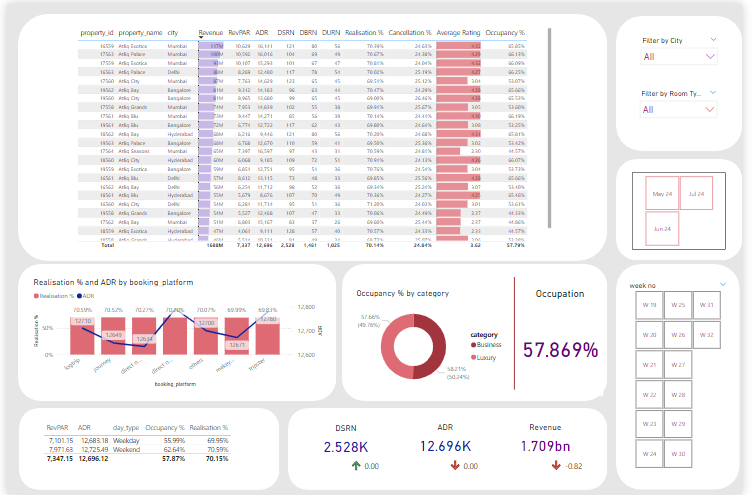

What the dashboard file says about the page in this screenshot:
{"tool":"powerbi","page":{"name":"Page 1","canvas":[1500,1000],"ordinal":0},"visuals":[{"type":"shape","box":[21.7,19.7,1202.8,503.9],"z":0,"group":"g2"},{"type":"group","id":"g1","title":"Group 1","box":[1242.1,23.6,257.9,275.6],"z":0},{"type":"shape","box":[1242.1,23.6,257.9,275.6],"z":0,"group":"g1"},{"type":"shape","box":[1242.1,316.9,257.9,206.7],"z":0,"group":"g10"},{"type":"shape","box":[682.9,531,541.3,279.5],"z":0,"group":"g5"},{"type":"shape","box":[21.7,531.5,649.6,279.5],"z":0,"group":"g8"},{"type":"shape","box":[1242.1,531.5,252.7,460.6],"z":0,"group":"g4"},{"type":"shape","box":[23.6,824.8,531.5,167.3],"z":0,"group":"g9"},{"type":"shape","box":[572.8,824.8,651.6,167.3],"z":0,"group":"g7"},{"type":"group","id":"g2","title":"Group 3","box":[21.7,19.7,1202.8,503.9],"z":1000},{"type":"tableEx","fields":{"Values":["dim_hotel.property_id","dim_hotel.property_name","dim_hotel.city","key_measures.Revenue","key_measures.RevPAR","key_measures.ADR","key_measures.DSRN","key_measures.DBRN","key_measures.DURN","key_measures.Realisation %","key_measures.Cancellation %","key_measures.Average Rating"]},"box":[137.3,41.3,978.5,462.6],"z":1000,"group":"g2"},{"type":"slicer","fields":{"Values":["dim_date.mmm yy"]},"box":[1274.5,344,191.5,158.7],"z":1000,"group":"g10"},{"type":"lineStackedColumnComboChart","fields":{"Y":["key_measures.Realisation %"],"Category":["fact_bookings.booking_platform"],"Y2":["key_measures.ADR"]},"box":[48.7,558.1,601,230.3],"z":1000,"group":"g8"},{"type":"slicer","fields":{"Values":["dim_date.week no"]},"box":[1256.9,562.8,223.1,391.8],"z":1000,"group":"g4"},{"type":"card","title":"Occupation","fields":{"Values":["key_measures.Occupancy %"]},"box":[1039.4,579.5,175.9,219.8],"z":1000,"group":"g5"},{"type":"tableEx","fields":{"Values":["key_measures.RevPAR","key_measures.ADR","dim_date.day_type","key_measures.Occupancy %","key_measures.Realisation %"]},"box":[67.6,851,446.9,128],"z":1000,"group":"g9"},{"type":"slicer","fields":{"Values":["dim_hotel.city"]},"box":[1281.9,60.6,176.8,106.9],"z":2000,"group":"g1"},{"type":"group","id":"g3","title":"Group 4","box":[1242.1,316.9,257.9,206.7],"z":2000},{"type":"donutChart","fields":{"Category":["dim_hotel.category"],"Y":["key_measures.Occupancy %"]},"box":[707.1,579.5,316.6,219.8],"z":2000,"group":"g5"},{"type":"group","id":"g4","title":"Group 5","box":[1242.1,531.5,238.2,460.6],"z":3000},{"type":"slicer","fields":{"Values":["dim_room.room_class"]},"box":[1281.4,168.2,178,111.2],"z":4000,"group":"g1"},{"type":"group","id":"g5","title":"Group 6","box":[682.9,531,541.3,279.5],"z":4000},{"type":"group","id":"g6","title":"Group 2","box":[596.4,854.3,594.5,116.1],"z":4000,"group":"g7"},{"type":"group","id":"g7","title":"Group 7","box":[572.8,824.8,651.6,167.3],"z":5000},{"type":"tableEx","fields":{"Values":["key_measures.Revenue WoW change %"]},"box":[1098.1,894,93.5,72.3],"z":5000,"group":"g6"},{"type":"group","id":"g8","title":"Group 8","box":[21.7,531.5,649.6,279.5],"z":6000},{"type":"group","id":"g9","title":"Group 9","box":[23.6,824.8,531.5,167.3],"z":7000},{"type":"tableEx","fields":{"Values":["key_measures.ADR WoW change %"]},"box":[892.6,894,96.4,75.1],"z":7000,"group":"g6"},{"type":"shape","box":[891.7,557.1,287.4,230.3],"z":8000},{"type":"tableEx","fields":{"Values":["key_measures.DSRN WoW change %"]},"box":[689.9,894,93.5,75.1],"z":8000,"group":"g6"},{"type":"group","id":"g10","title":"Group 10","box":[1242.1,316.9,257.9,206.7],"z":8002,"group":"g3"},{"type":"card","title":"Revenue","fields":{"Values":["key_measures.Revenue"]},"box":[1003.2,854.3,188.5,75.1],"z":11000,"group":"g6"},{"type":"card","title":"ADR","fields":{"Values":["key_measures.ADR"]},"box":[796.2,854.3,192.8,75.1],"z":12000,"group":"g6"},{"type":"card","title":"DSRN","fields":{"Values":["key_measures.DSRN"]},"box":[596.4,855.7,187.1,75.1],"z":13000,"group":"g6"}]}

Visuals, with their boxes in screenshot pixels (x1, y1, x2, y2), scaled from the page's 1500x1000 canvas onto the 755x495 screenshot:
shape: bbox=(11, 10, 616, 259)
"Group 1" group: bbox=(625, 12, 754, 148)
shape: bbox=(625, 12, 754, 148)
shape: bbox=(625, 157, 754, 259)
shape: bbox=(344, 263, 616, 401)
shape: bbox=(11, 263, 338, 401)
shape: bbox=(625, 263, 752, 491)
shape: bbox=(12, 408, 279, 491)
shape: bbox=(288, 408, 616, 491)
"Group 3" group: bbox=(11, 10, 616, 259)
tableEx - dim_hotel.property_id x dim_hotel.property_name: bbox=(69, 20, 562, 249)
slicer - dim_date.mmm yy: bbox=(641, 170, 738, 249)
lineStackedColumnComboChart - key_measures.Realisation % x fact_bookings.booking_platform: bbox=(25, 276, 327, 390)
slicer - dim_date.week no: bbox=(633, 279, 745, 473)
"Occupation" card: bbox=(523, 287, 612, 396)
tableEx - key_measures.RevPAR x key_measures.ADR: bbox=(34, 421, 259, 485)
slicer - dim_hotel.city: bbox=(645, 30, 734, 83)
"Group 4" group: bbox=(625, 157, 754, 259)
donutChart - dim_hotel.category x key_measures.Occupancy %: bbox=(356, 287, 515, 396)
"Group 5" group: bbox=(625, 263, 745, 491)
slicer - dim_room.room_class: bbox=(645, 83, 735, 138)
"Group 6" group: bbox=(344, 263, 616, 401)
"Group 2" group: bbox=(300, 423, 599, 480)
"Group 7" group: bbox=(288, 408, 616, 491)
tableEx - key_measures.Revenue WoW change %: bbox=(553, 443, 600, 478)
"Group 8" group: bbox=(11, 263, 338, 401)
"Group 9" group: bbox=(12, 408, 279, 491)
tableEx - key_measures.ADR WoW change %: bbox=(449, 443, 498, 480)
shape: bbox=(449, 276, 593, 390)
tableEx - key_measures.DSRN WoW change %: bbox=(347, 443, 394, 480)
"Group 10" group: bbox=(625, 157, 754, 259)
"Revenue" card: bbox=(505, 423, 600, 460)
"ADR" card: bbox=(401, 423, 498, 460)
"DSRN" card: bbox=(300, 424, 394, 461)
